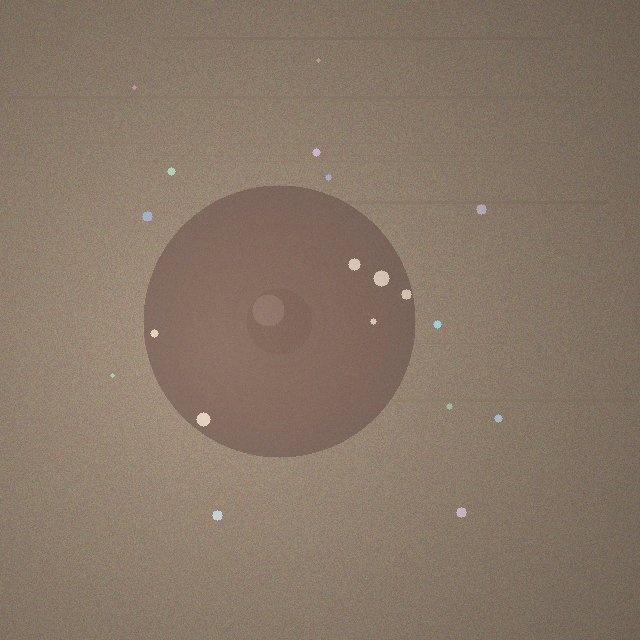overburn: (143, 185, 415, 457)
